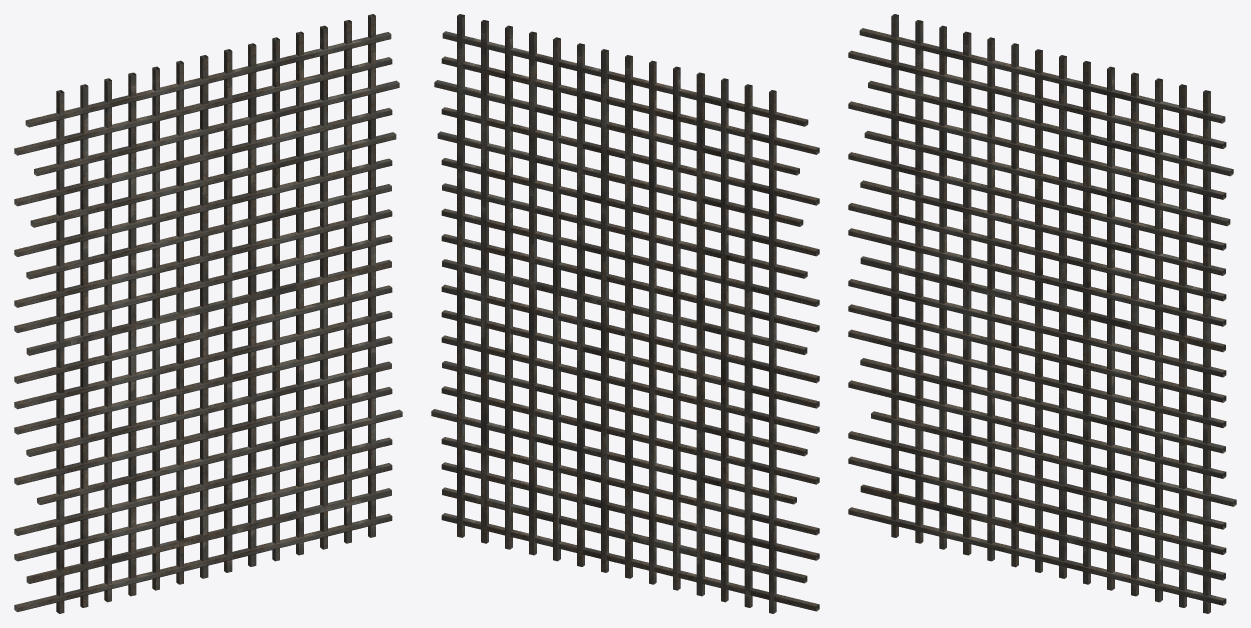
The model's file is wall_003.glb.
3 renders of one model, left to right at view 1: azimuth 30°, elevation 25°; view 2: azimuth 150°, elevation 25°; view 3: azimuth 330°, elevation 25°, orthographic.
Parts seen in each view (by area): view 1: Building_12_063; view 2: Building_12_063; view 3: Building_12_063.
Part boxes in pixels (x1,y1,x2,y2): Building_12_063: (14, 14, 402, 613); Building_12_063: (431, 14, 819, 613); Building_12_063: (848, 14, 1236, 613).
Size of the model in its own units: 1.55 by 2 by 0.0264.
1 material, 1 textured.
